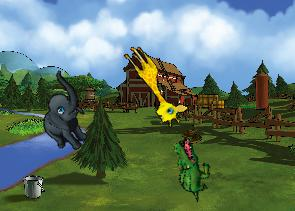crocodile: (158, 134, 223, 203)
elephant: (20, 69, 109, 158)
giraffe: (113, 41, 192, 131)
